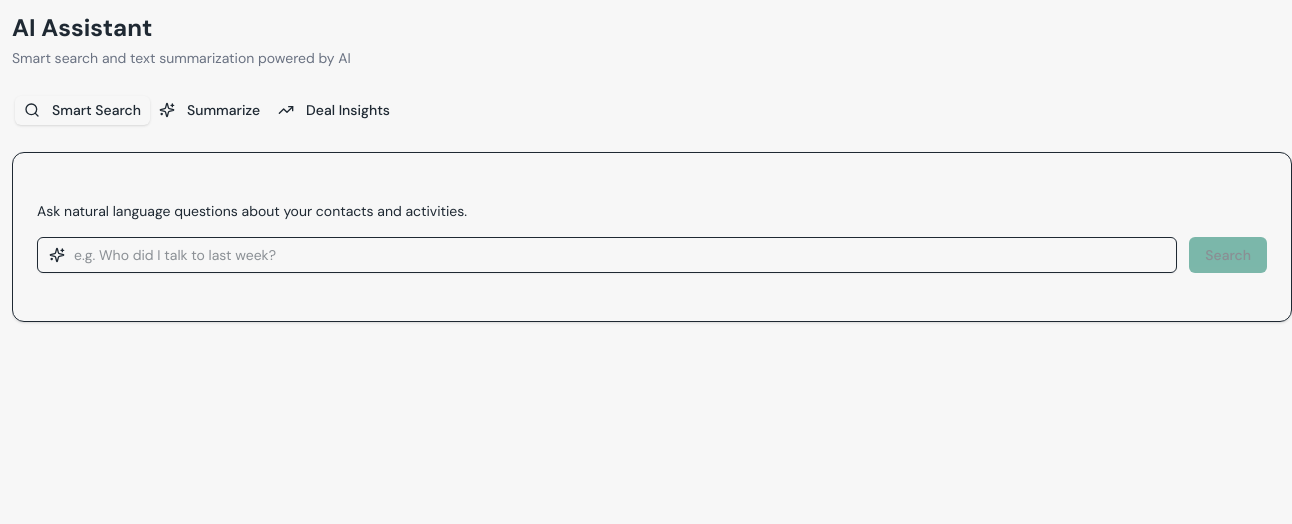
AiPanelPage › runs summarize and shows the summary text
Click the tab "Summarize" at (210, 110), box [150,96,269,124]
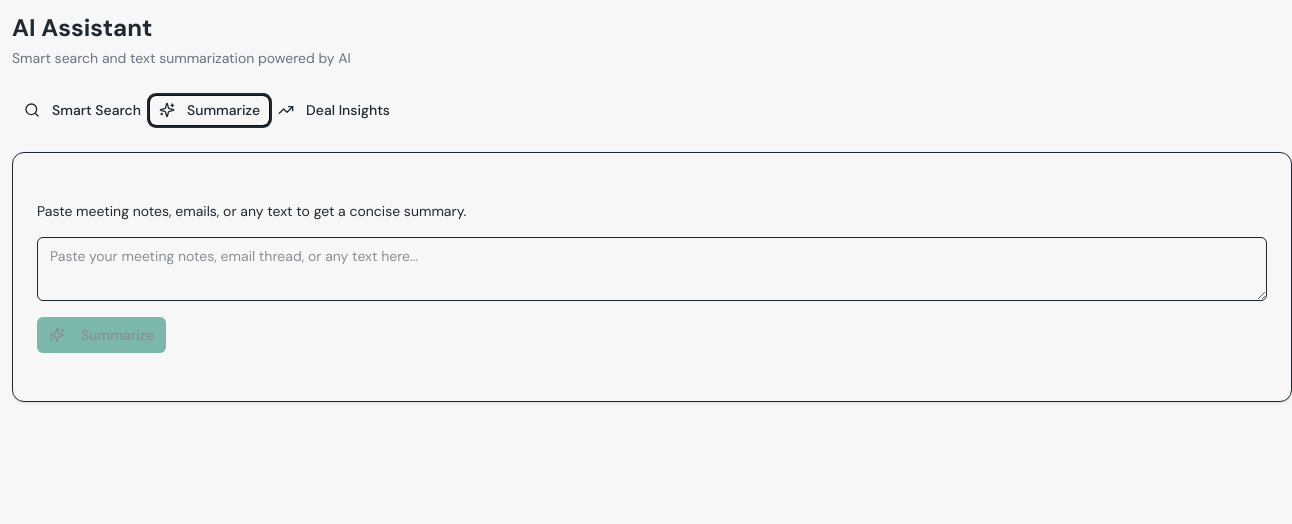
Type "a long block of text" into the text box with placeholder "Paste your meeting notes, email thread, or any text here..." at (652, 269), box [37,237,1267,301]
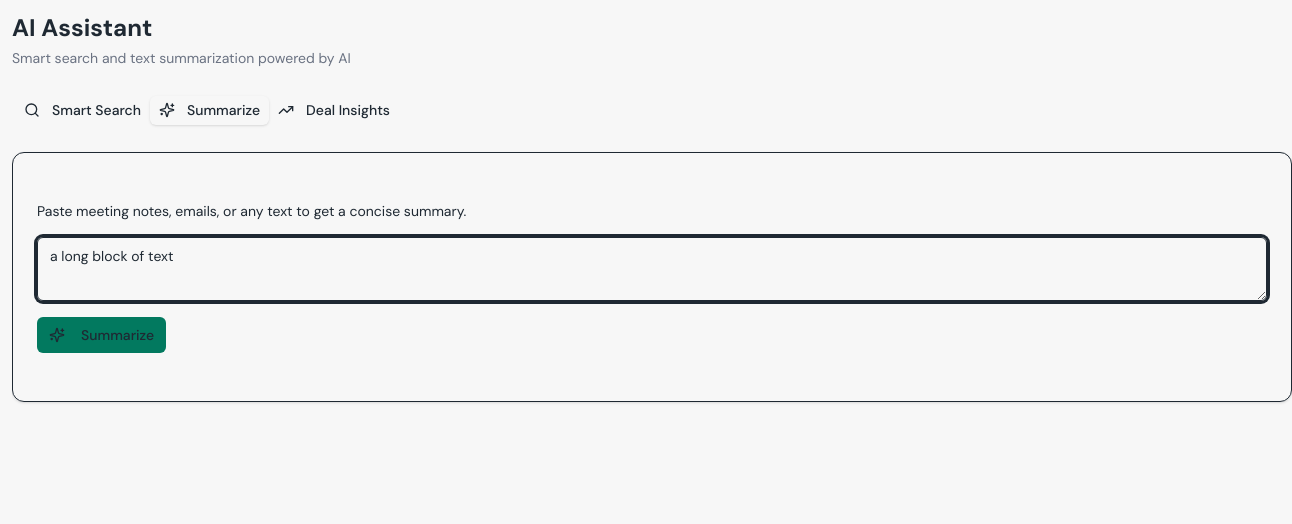
Click the button "Summarize" at (102, 335), box [37,317,166,353]
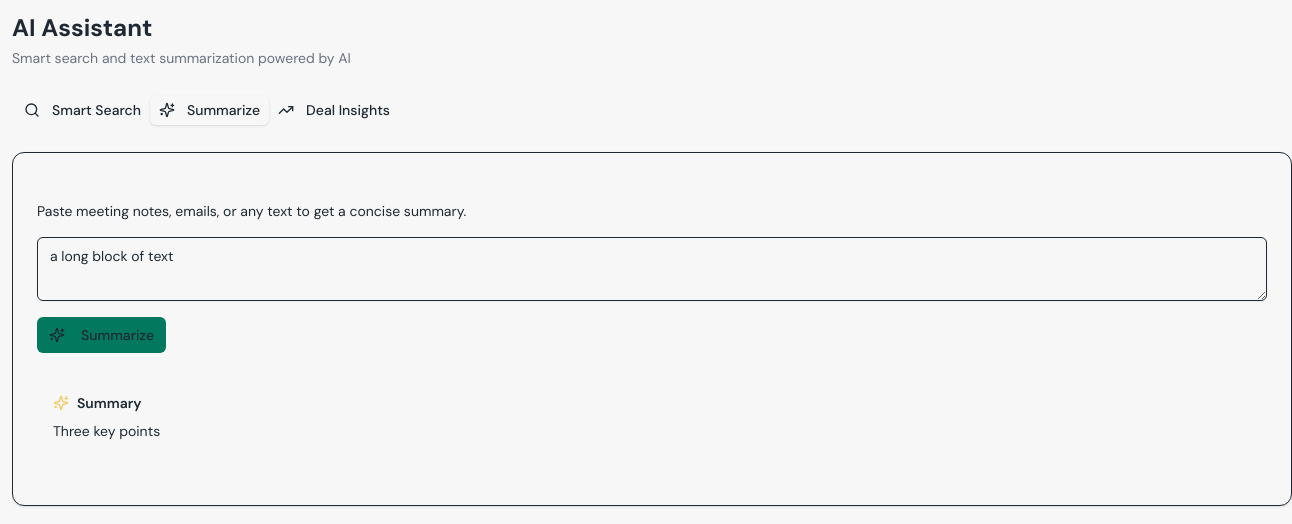
Expected: the text "Three key points" is shown, [53,422,160,440]
Expected: the heading "Summary" is shown, [77,393,142,413]
